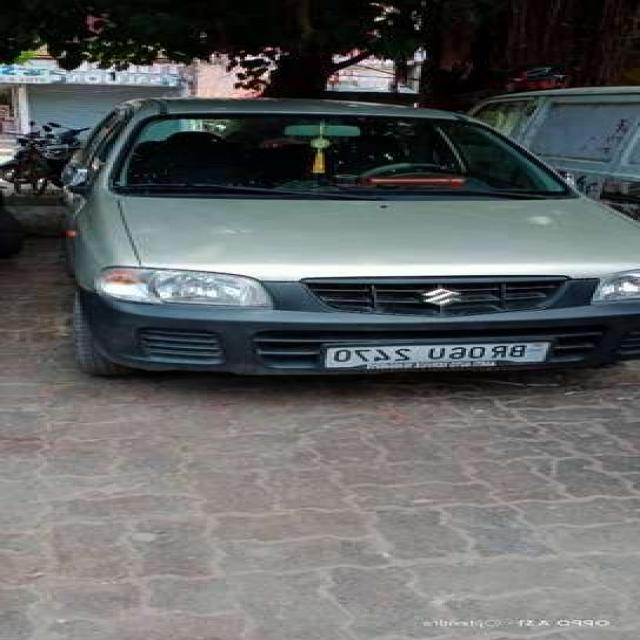license_plate: (316, 335, 558, 372)
